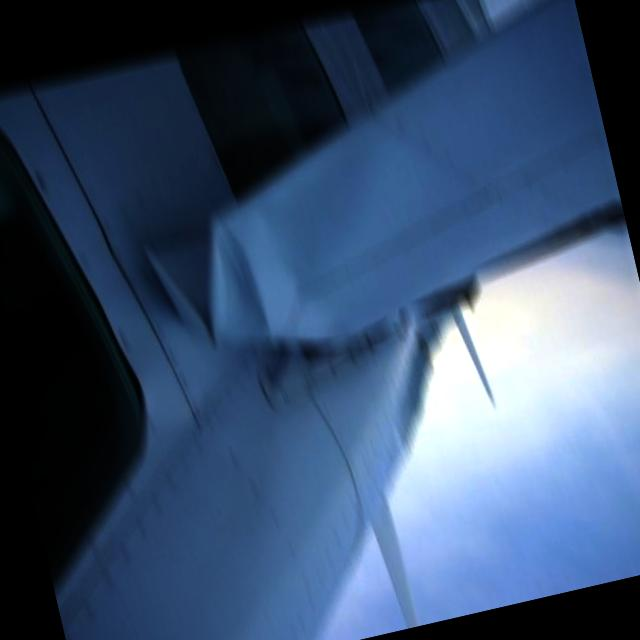dent: (140, 204, 278, 374)
